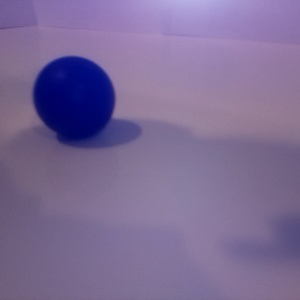dead_ball: (33, 55, 115, 137)
